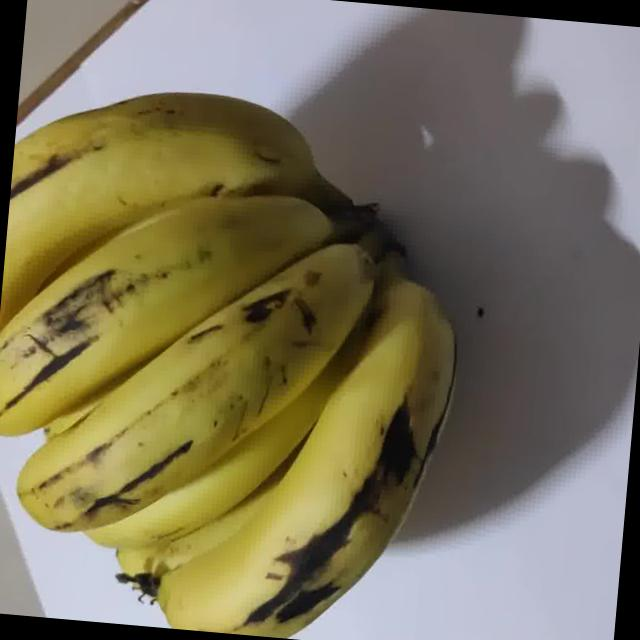apple: (0, 9, 571, 640)
